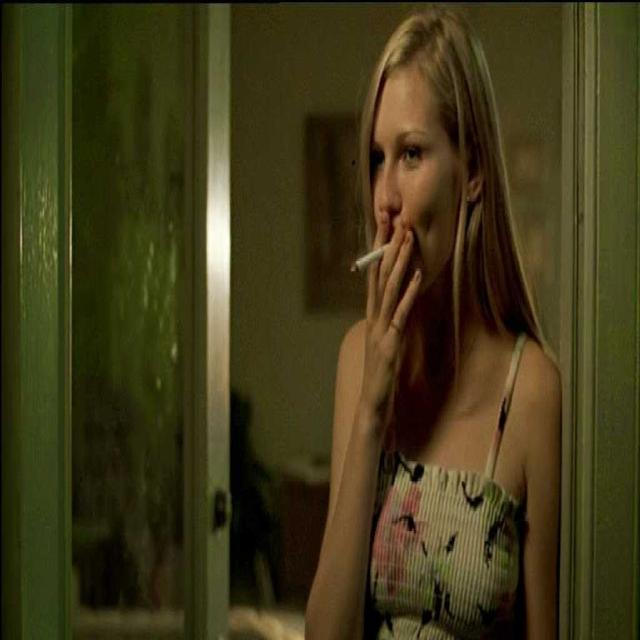Smooking: (344, 228, 402, 279)
